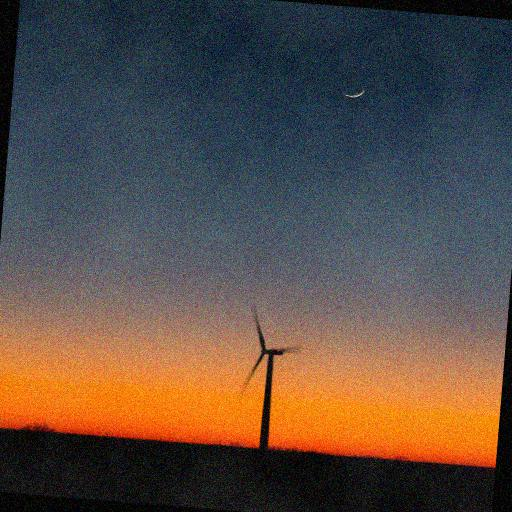wind turbine: (239, 305, 302, 450)
